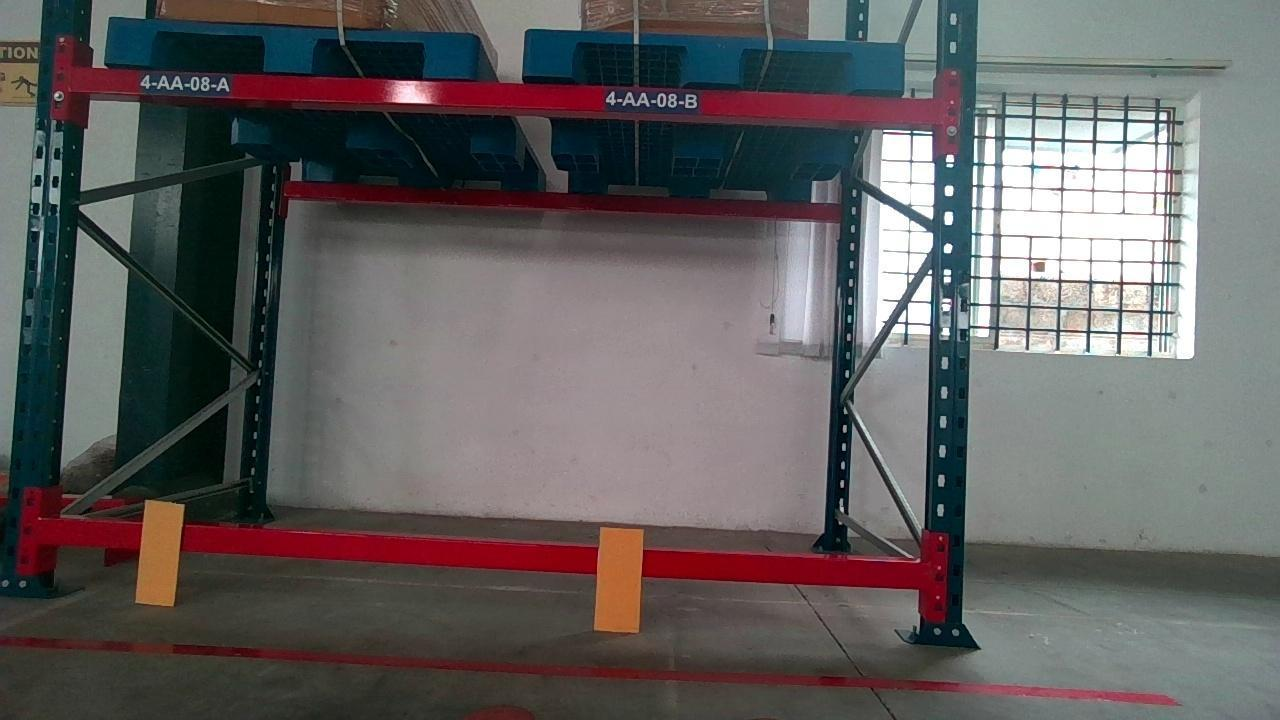h_rack: (34, 514, 927, 589), (57, 67, 946, 119)
orange_strip: (595, 525, 643, 632), (135, 500, 183, 603)
red_line: (7, 635, 1188, 705)
small_pallet: (520, 29, 916, 89), (105, 24, 473, 74)
